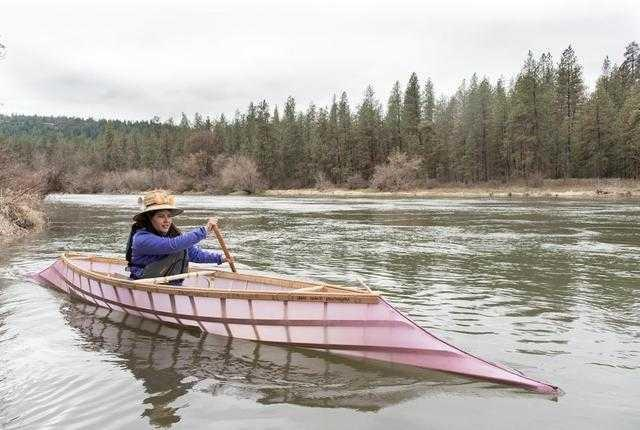kayak: (34, 251, 559, 395)
